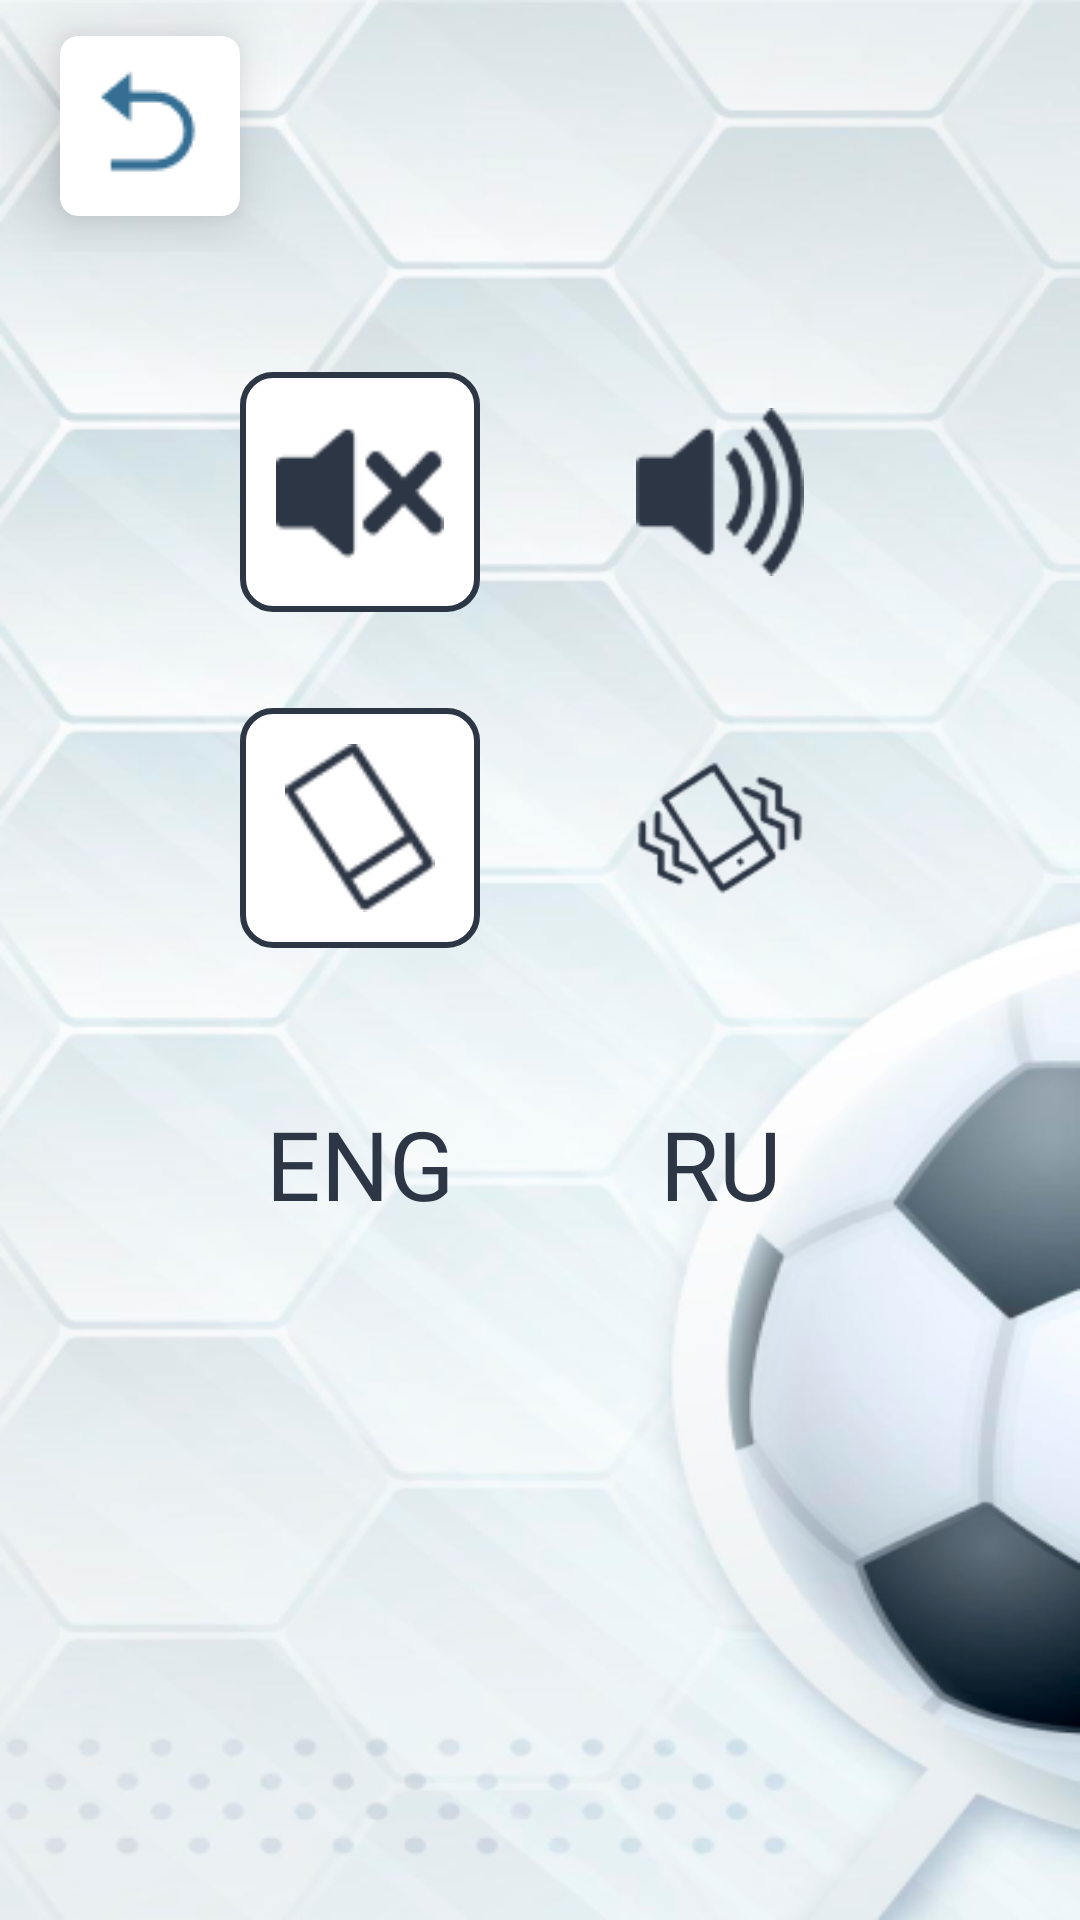

Locate icon controls on the screen. Image size 1080px x 1920px, boxes as (x1, y1, x2, y2).
back: (60, 36, 240, 216)
sound offf: (240, 372, 480, 612)
sound onn: (636, 385, 804, 576)
vibr offf: (240, 708, 480, 948)
vibr onnn: (637, 716, 839, 894)
